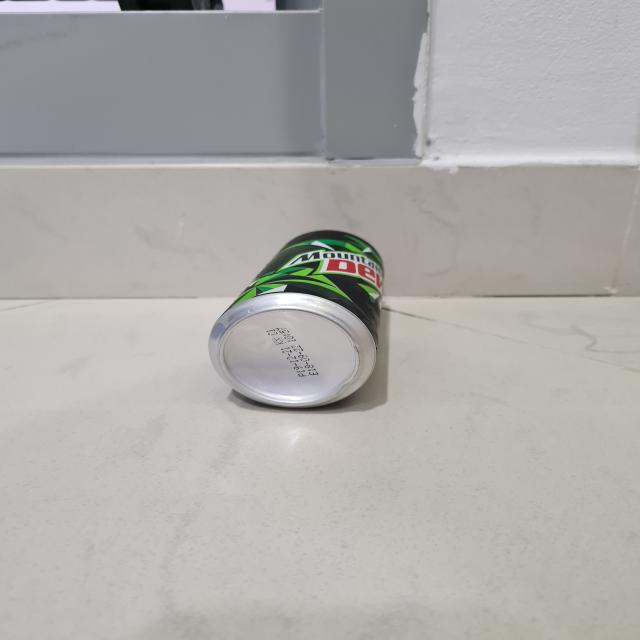non-organic waste: (210, 223, 392, 413)
